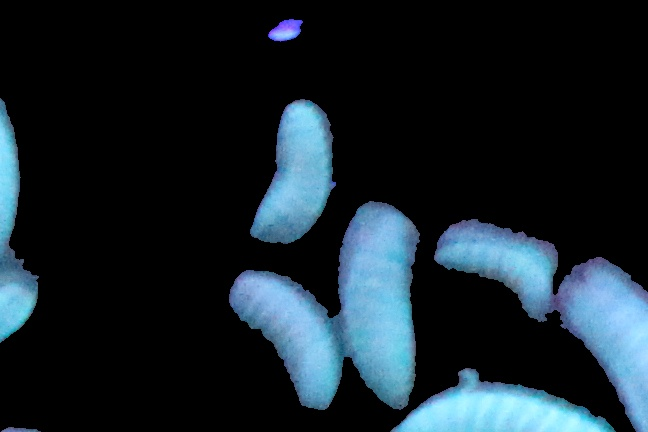larvae: (557, 260, 648, 432), (227, 271, 338, 411), (342, 212, 417, 414), (247, 101, 331, 248), (435, 219, 556, 317), (391, 386, 625, 432), (1, 87, 26, 264), (1, 266, 51, 354)
